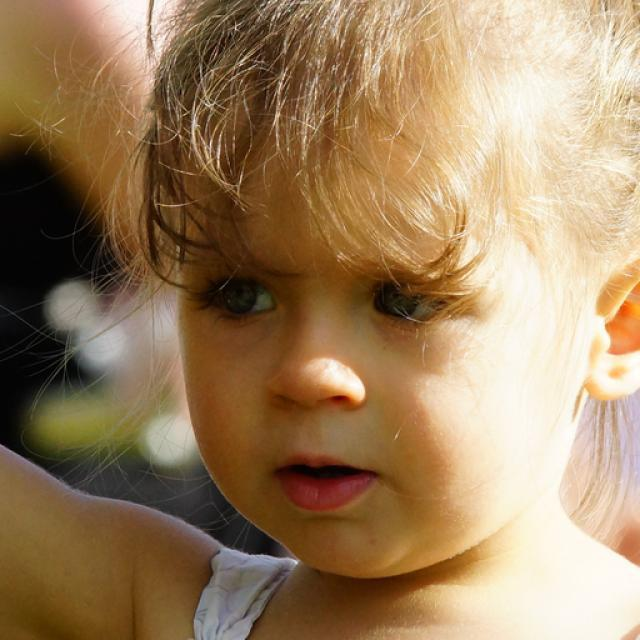0_rostro_limpio: (181, 0, 640, 579)
